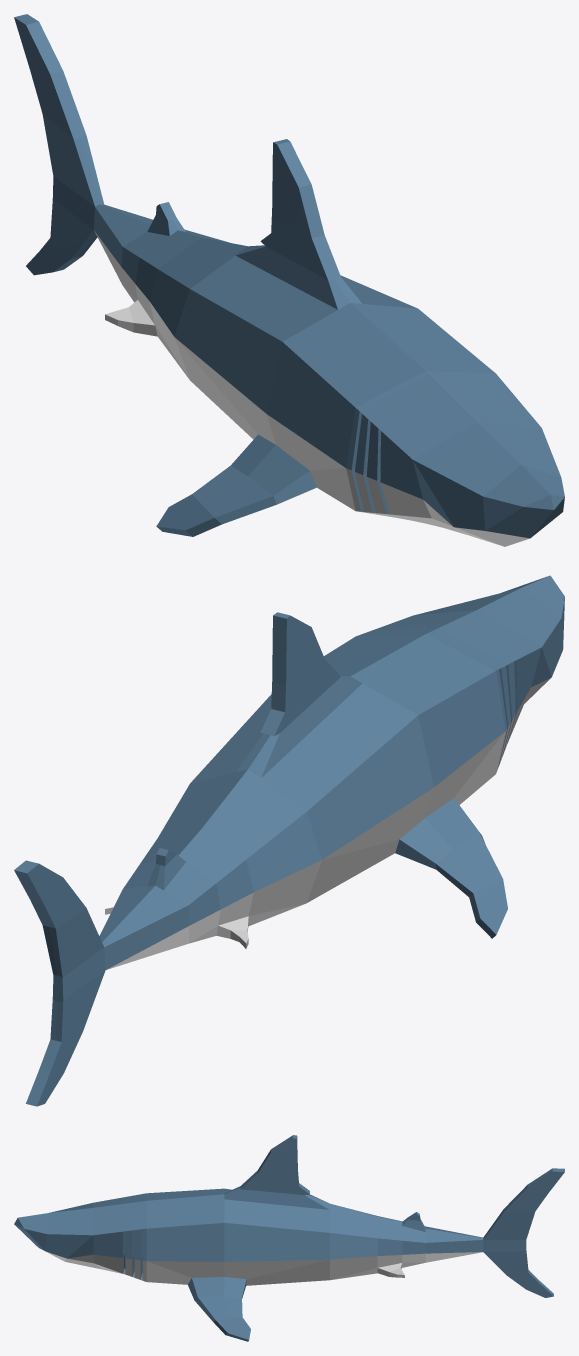
File: shark.glb
3 views of the same model, one above another, from view 1: azimuth 30°, elevation 25°; view 2: azimuth 150°, elevation 25°; view 3: azimuth 270°, elevation 25° (orthographic). The views are drawn at different scales.
Visible parts, largest first — view 1: Shark; view 2: Shark; view 3: Shark.
Boxes of the visible parts, bbox=[...] form: Shark: bbox=[14, 14, 564, 546]; Shark: bbox=[14, 575, 564, 1106]; Shark: bbox=[14, 1135, 564, 1341].
Size of the model in its own units: 5.83 by 5.19 by 15.83.
